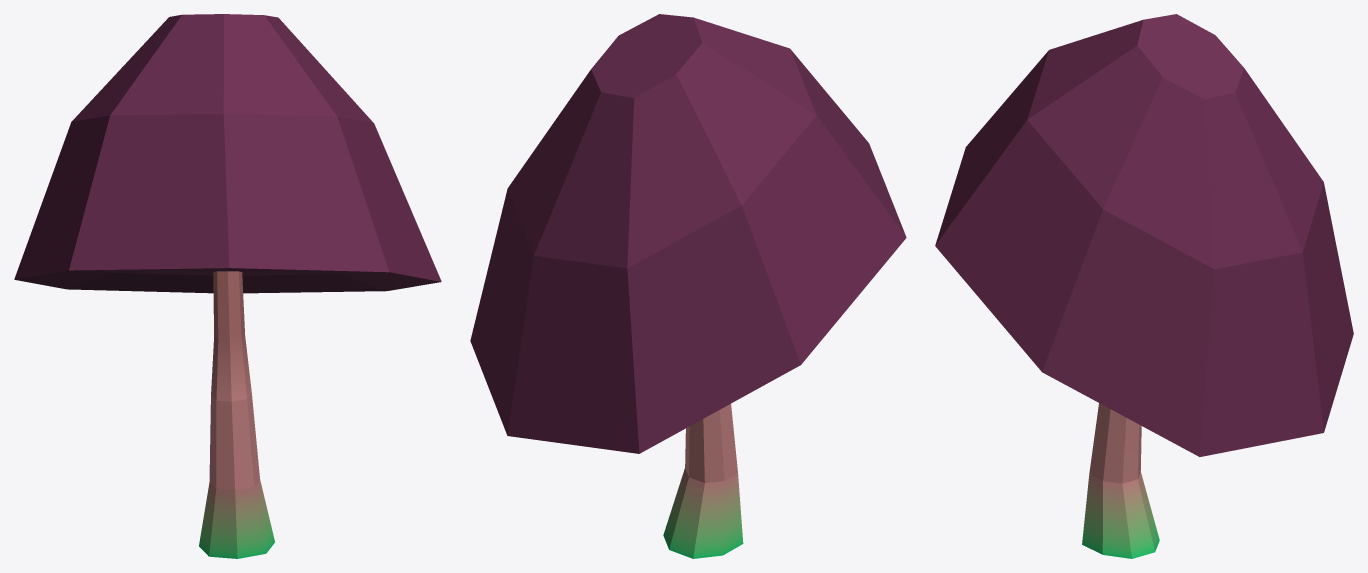
Rendered from mdl_env_1_forest_mushroom_c_v01.fbx.
3 renders of one model, left to right at view 1: azimuth 30°, elevation 25°; view 2: azimuth 150°, elevation 25°; view 3: azimuth 270°, elevation 25°, orthographic.
Parts seen in each view (by area): view 1: mdl_env_1_forest_mushroom_c_v01; view 2: mdl_env_1_forest_mushroom_c_v01; view 3: mdl_env_1_forest_mushroom_c_v01.
Part boxes in pixels (x1=…): mdl_env_1_forest_mushroom_c_v01: x1=14, y1=14, x2=441, y2=558; mdl_env_1_forest_mushroom_c_v01: x1=470, y1=14, x2=906, y2=558; mdl_env_1_forest_mushroom_c_v01: x1=935, y1=14, x2=1353, y2=558.
Size of the model in its own units: 0.7767 by 1.04 by 0.7539.
